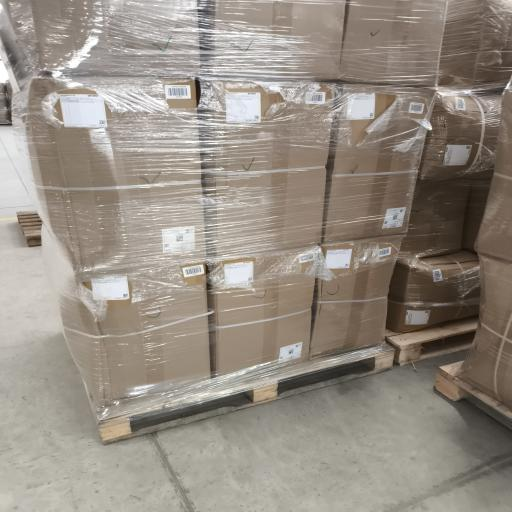pallet: (98, 344, 394, 444), (435, 362, 511, 429), (386, 316, 477, 365), (17, 211, 42, 247)
